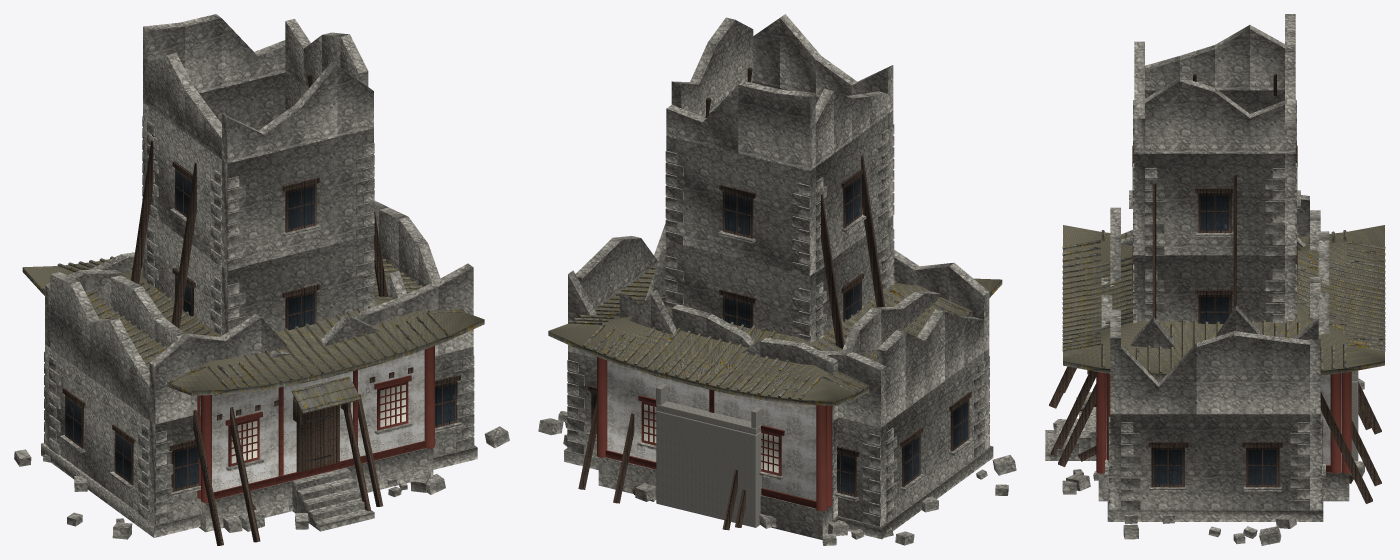
File: RuinsBuildings.gltf
The picture shows the model from 3 angles, left to right: view 1: azimuth 30°, elevation 25°; view 2: azimuth 150°, elevation 25°; view 3: azimuth 270°, elevation 25°; orthographic projection. The views are drawn at different scales.
Visible parts, largest first — view 1: bellTowerRuin, longHallRuin, teaHallWorn, timberHouseRuin; view 2: bellTowerRuin, longHallRuin, teaHallWorn, perchStand, timberHouseRuin; view 3: bellTowerRuin, longHallRuin, teaHallWorn, timberHouseRuin, cottageRuin, perchStand.
Part boxes in pixels (x1=…): bellTowerRuin: x1=131, y1=14, x2=401, y2=496; longHallRuin: x1=14, y1=200, x2=509, y2=545; teaHallWorn: x1=22, y1=252, x2=484, y2=532; timberHouseRuin: x1=43, y1=252, x2=413, y2=542; bellTowerRuin: x1=650, y1=14, x2=894, y2=528; longHallRuin: x1=538, y1=223, x2=1016, y2=545; teaHallWorn: x1=548, y1=262, x2=1002, y2=539; perchStand: x1=656, y1=383, x2=761, y2=527; timberHouseRuin: x1=613, y1=249, x2=940, y2=539; bellTowerRuin: x1=1073, y1=14, x2=1300, y2=474; longHallRuin: x1=1058, y1=195, x2=1372, y2=545; teaHallWorn: x1=1045, y1=225, x2=1385, y2=501; timberHouseRuin: x1=1049, y1=231, x2=1381, y2=524; cottageRuin: x1=1066, y1=402, x2=1364, y2=490; perchStand: x1=1351, y1=370, x2=1358, y2=460.
Size of the model in its own units: 15.69 by 14.91 by 11.46.
Materials: 13 (13 with a texture image).
